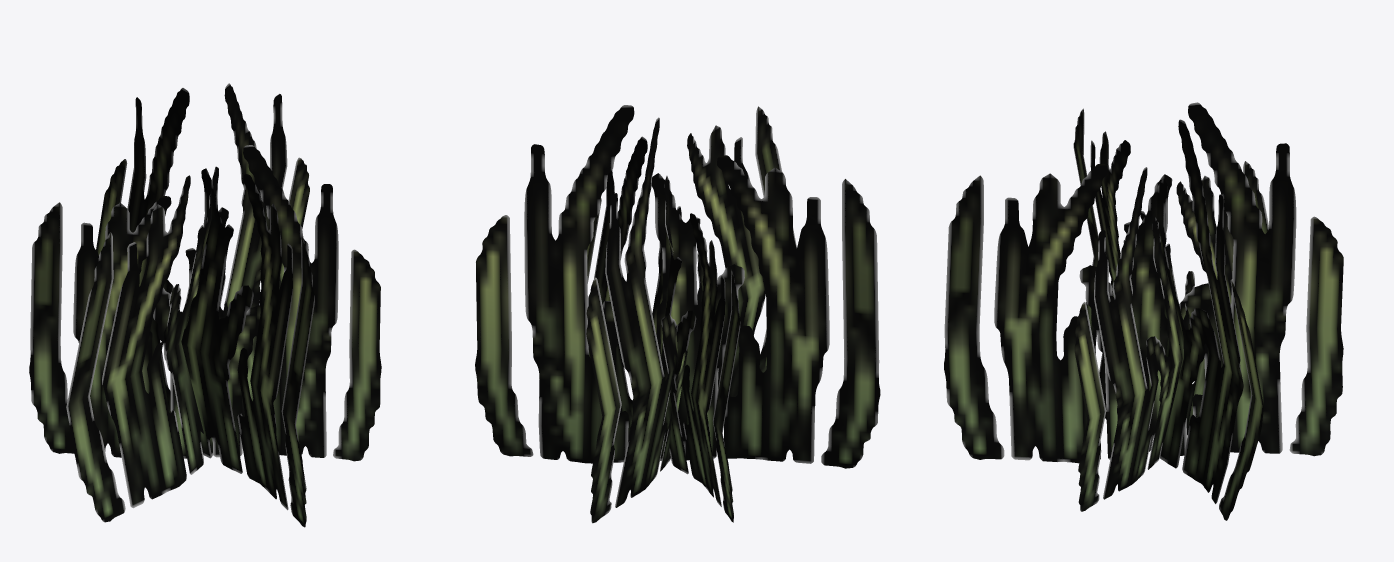
Rendered from NightGrass.fbx.
3 renders of one model, left to right at view 1: azimuth 30°, elevation 25°; view 2: azimuth 150°, elevation 25°; view 3: azimuth 270°, elevation 25°, orthographic.
Visible parts, largest first — view 1: NightGrass; view 2: NightGrass; view 3: NightGrass.
Part boxes in pixels (x1=…): NightGrass: x1=29, y1=83, x2=381, y2=527; NightGrass: x1=475, y1=105, x2=880, y2=523; NightGrass: x1=944, y1=102, x2=1343, y2=520.
Size of the model in its own units: 440 by 414 by 472.
Materials: 1 (1 with a texture image).
